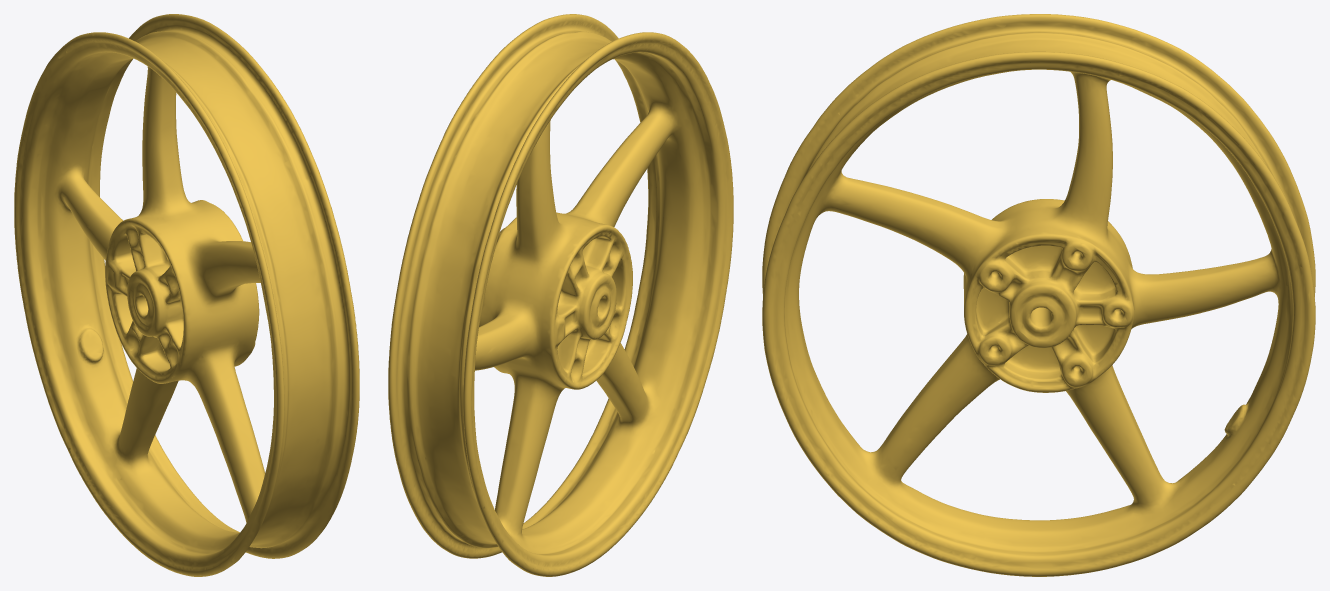
The model's file is sp522-rear.glb.
3 views of the same model, side by side, from view 1: azimuth 30°, elevation 25°; view 2: azimuth 150°, elevation 25°; view 3: azimuth 270°, elevation 25° (orthographic). The views are drawn at different scales.
Visible parts, largest first — view 1: SP522_REAR; view 2: SP522_REAR; view 3: SP522_REAR.
Part boxes in pixels (x1,y1,x2,y2): SP522_REAR: [14, 14, 359, 576]; SP522_REAR: [388, 14, 733, 576]; SP522_REAR: [762, 14, 1315, 576].
Size of the model in its own units: 0.2366 by 1.3 by 1.24.
